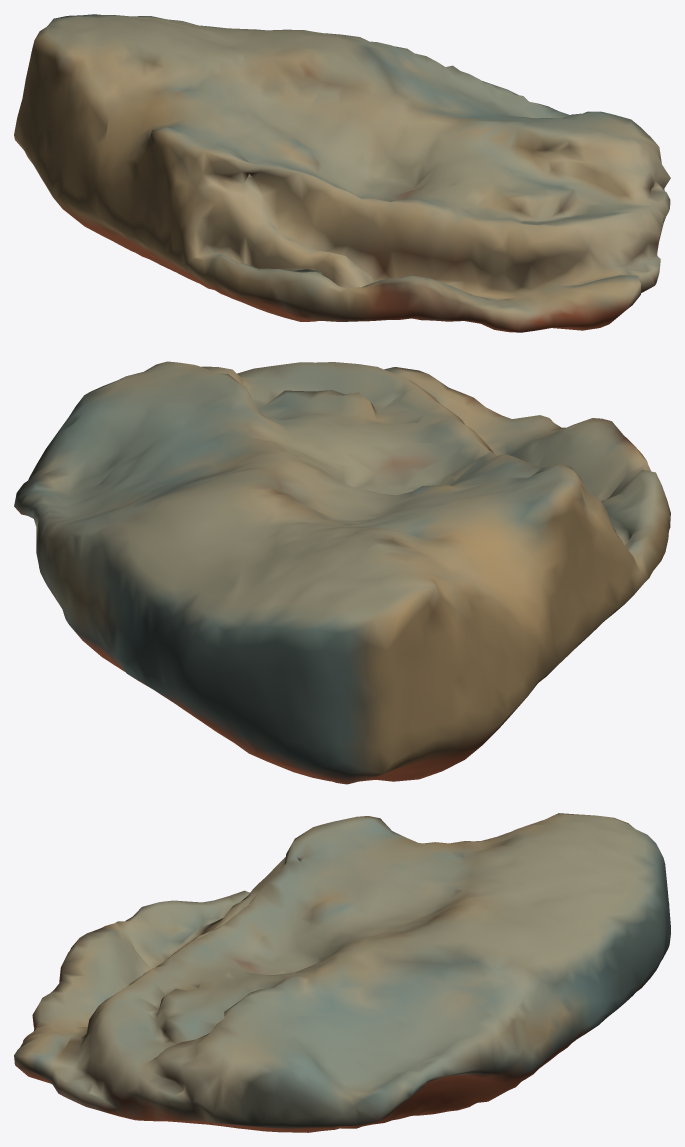
Rendered from rock10_low.fbx.
3 renders of one model, top to bottom at view 1: azimuth 30°, elevation 25°; view 2: azimuth 150°, elevation 25°; view 3: azimuth 270°, elevation 25°, orthographic. The views are drawn at different scales.
Visible parts, largest first — view 1: rock10_low; view 2: rock10_low; view 3: rock10_low.
Boxes of the visible parts, x1,y1,x2,y2 form: rock10_low: (14, 14, 670, 332); rock10_low: (14, 361, 670, 784); rock10_low: (14, 813, 670, 1132).
Size of the model in its own units: 0.7986 by 0.3049 by 1.
